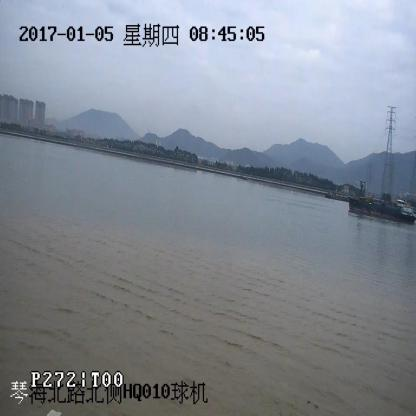Bulk Carrier: (348, 185, 416, 224)
